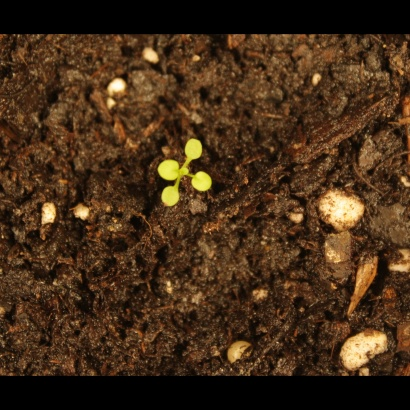leaf: (182, 134, 207, 163), (158, 185, 187, 210), (154, 155, 182, 180), (191, 170, 217, 194)
